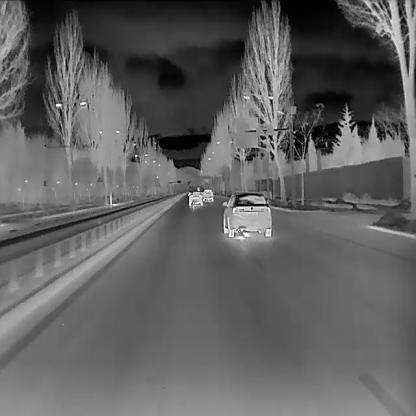car: (221, 190, 273, 238), (187, 191, 203, 205), (201, 187, 214, 201), (187, 189, 191, 196), (196, 185, 199, 190)
